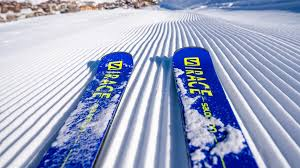skis: (27, 44, 259, 168)
